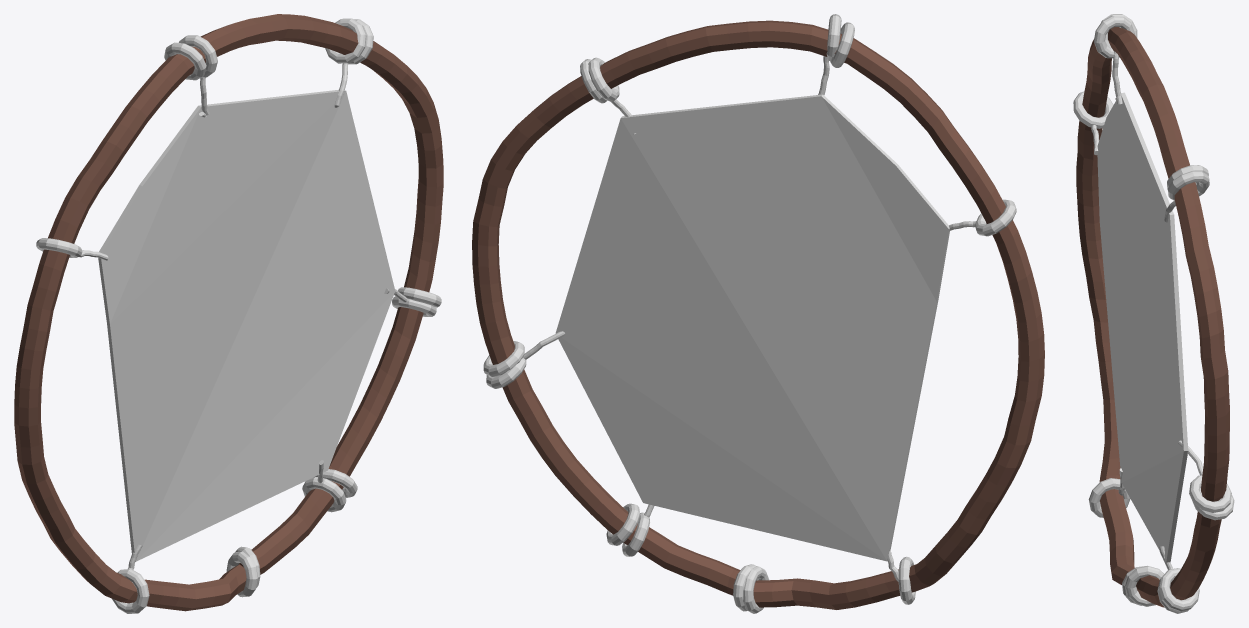
The model's file is IroquoisDisplay.fbx.
3 renders of one model, left to right at view 1: azimuth 30°, elevation 25°; view 2: azimuth 150°, elevation 25°; view 3: azimuth 270°, elevation 25°, orthographic. The views are drawn at different scales.
Parts seen in each view (by area): view 1: group_27049891, group_92425000, mesh_1845559410, mesh_891616462, mesh_1281594230, mesh_210455872, mesh_1595730784, mesh_1456875101; view 2: group_27049891, group_92425000; view 3: group_27049891, group_92425000, mesh_939812373, mesh_1456875101, mesh_1586946004, mesh_1260402770, mesh_222185283, mesh_1845559410, mesh_893929682, mesh_1048492017, group_301969568, mesh_891616462.
Part boxes in pixels (x1,y1,x2,y2): group_27049891: (98,89,395,561); group_92425000: (14,14,443,611); mesh_1845559410: (112,569,149,613); mesh_891616462: (325,18,366,63); mesh_1281594230: (164,42,206,80); mesh_210455872: (226,551,258,597); mesh_1595730784: (302,477,346,512); mesh_1456875101: (178,35,217,77); group_27049891: (555,94,949,561); group_92425000: (472,20,1044,609); group_27049891: (1097,92,1188,562); group_92425000: (1076,27,1229,607); mesh_939812373: (1159,568,1199,611); mesh_1456875101: (1094,16,1134,58); mesh_1586946004: (1189,475,1231,512); mesh_1260402770: (1125,566,1163,606); mesh_222185283: (1168,171,1209,200); mesh_1845559410: (1088,478,1130,517); mesh_893929682: (1073,91,1113,128); mesh_1048492017: (1192,488,1234,520); group_301969568: (1112,50,1122,104); mesh_891616462: (1167,165,1208,189).
Size of the model in its own units: 95.98 by 109 by 28.51.
